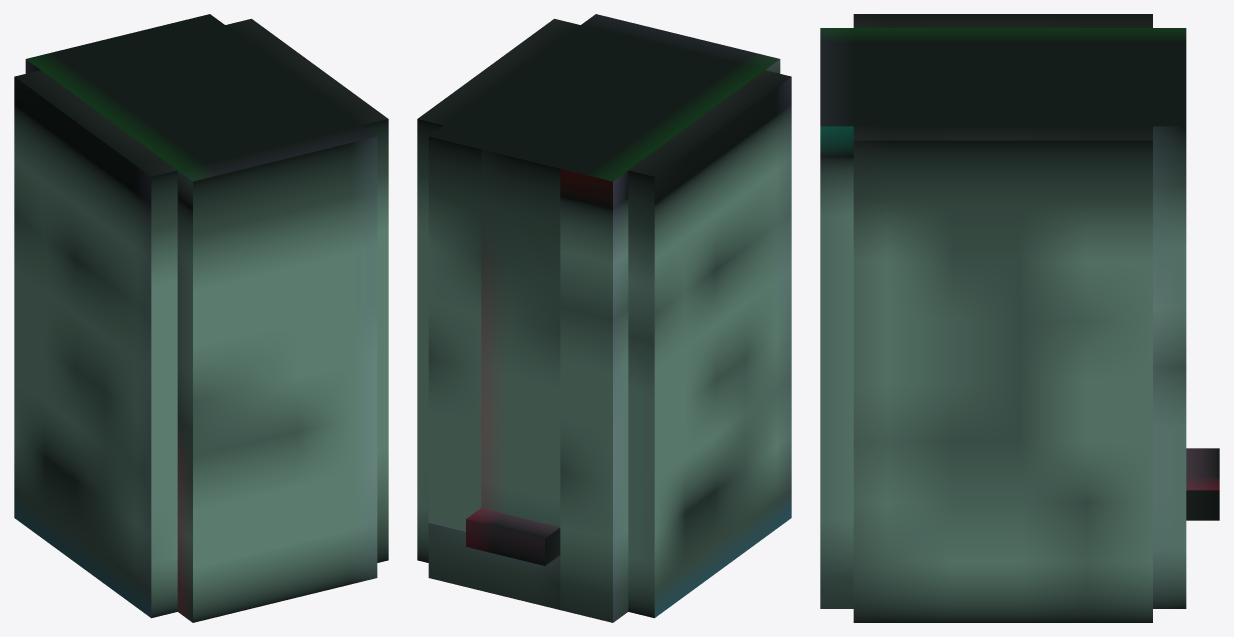
The model's file is TrashCan_00.fbx.
3 renders of one model, left to right at view 1: azimuth 30°, elevation 25°; view 2: azimuth 150°, elevation 25°; view 3: azimuth 270°, elevation 25°, orthographic. The views are drawn at different scales.
Parts seen in each view (by area): view 1: TrashCan_00; view 2: TrashCan_00; view 3: TrashCan_00.
Boxes of the visible parts, box(x1,y1,x2,y2) form: TrashCan_00: box(14, 14, 388, 622); TrashCan_00: box(417, 14, 791, 622); TrashCan_00: box(820, 14, 1219, 622).
Size of the model in its own units: 45 by 80 by 60.
